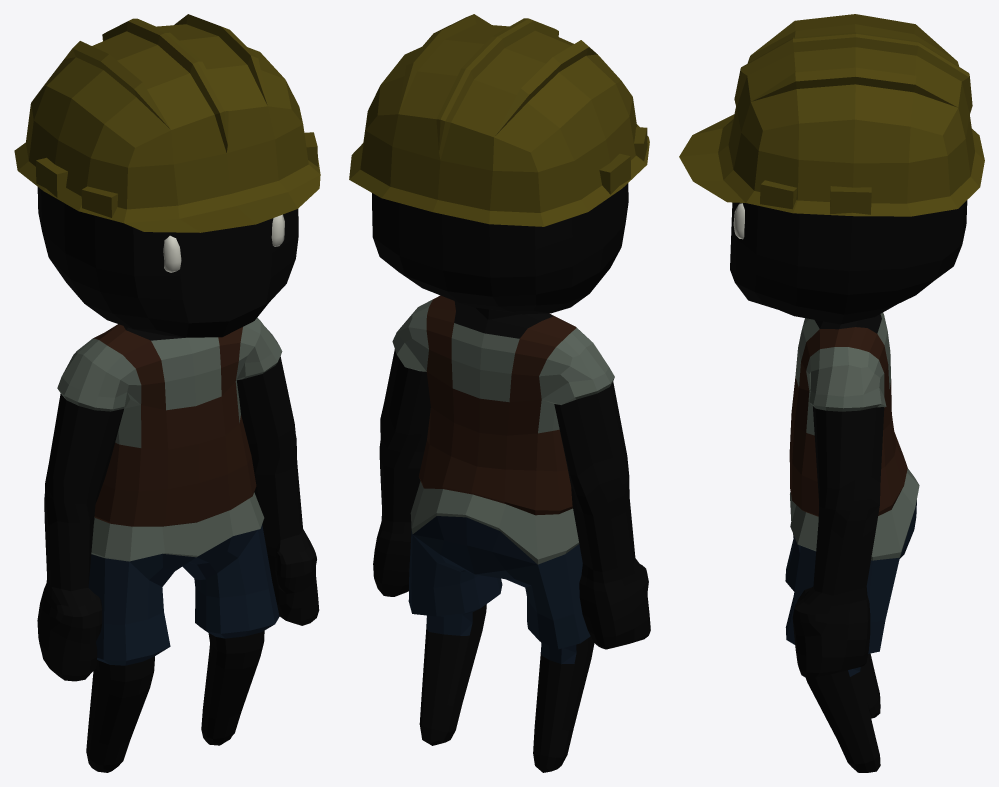
File: Worker_Male.obj
The picture shows the model from 3 angles, left to right: view 1: azimuth 30°, elevation 25°; view 2: azimuth 150°, elevation 25°; view 3: azimuth 270°, elevation 25°; orthographic projection. The views are drawn at different scales.
Visible parts, largest first — view 1: Body_Cube.004; view 2: Body_Cube.004; view 3: Body_Cube.004.
Part boxes in pixels (left/top/right/bottom): Body_Cube.004: left=14, top=14, right=320, bottom=772; Body_Cube.004: left=349, top=14, right=650, bottom=772; Body_Cube.004: left=679, top=14, right=984, bottom=772.
Bounding box in the file's own units: 1.27 × 3.29 × 1.28.
